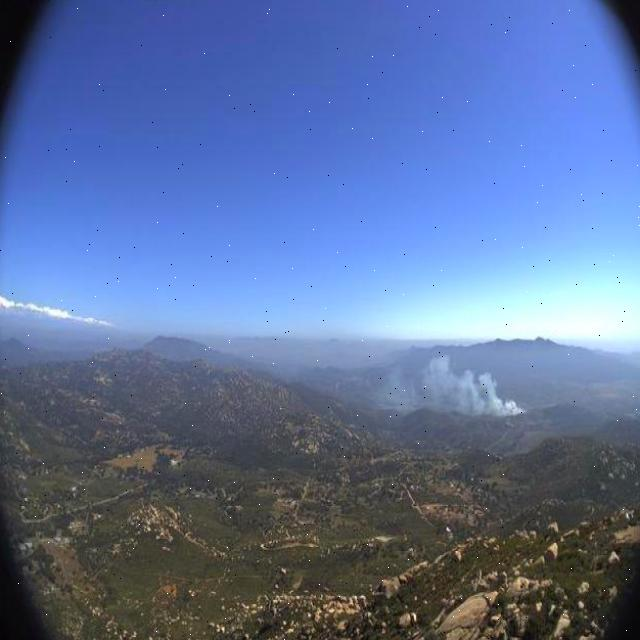smoke: (376, 348, 528, 420)
